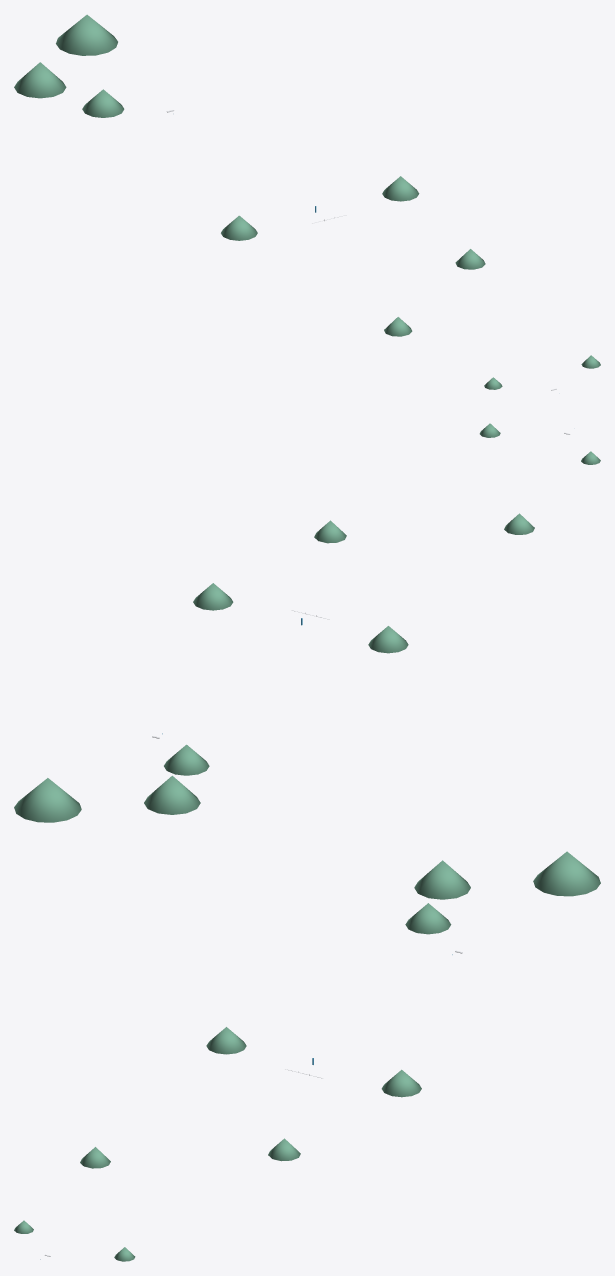
Rendered from world_environment.glb.
3 renders of one model, top to bottom at view 1: azimuth 30°, elevation 25°; view 2: azimuth 150°, elevation 25°; view 3: azimuth 330°, elevation 25°, orthographic. The views are drawn at different scales.
Visible parts, largest first — view 1: World_Airports_And_Metropolis; view 2: World_Airports_And_Metropolis; view 3: World_Airports_And_Metropolis.
Part boxes in pixels (<box>): World_Airports_And_Metropolis: <box>14,14,600,390</box>; World_Airports_And_Metropolis: <box>14,423,600,822</box>; World_Airports_And_Metropolis: <box>14,851,600,1261</box>.
Size of what is drawn, in the model's own units: 13650 by 1850 by 58313.
